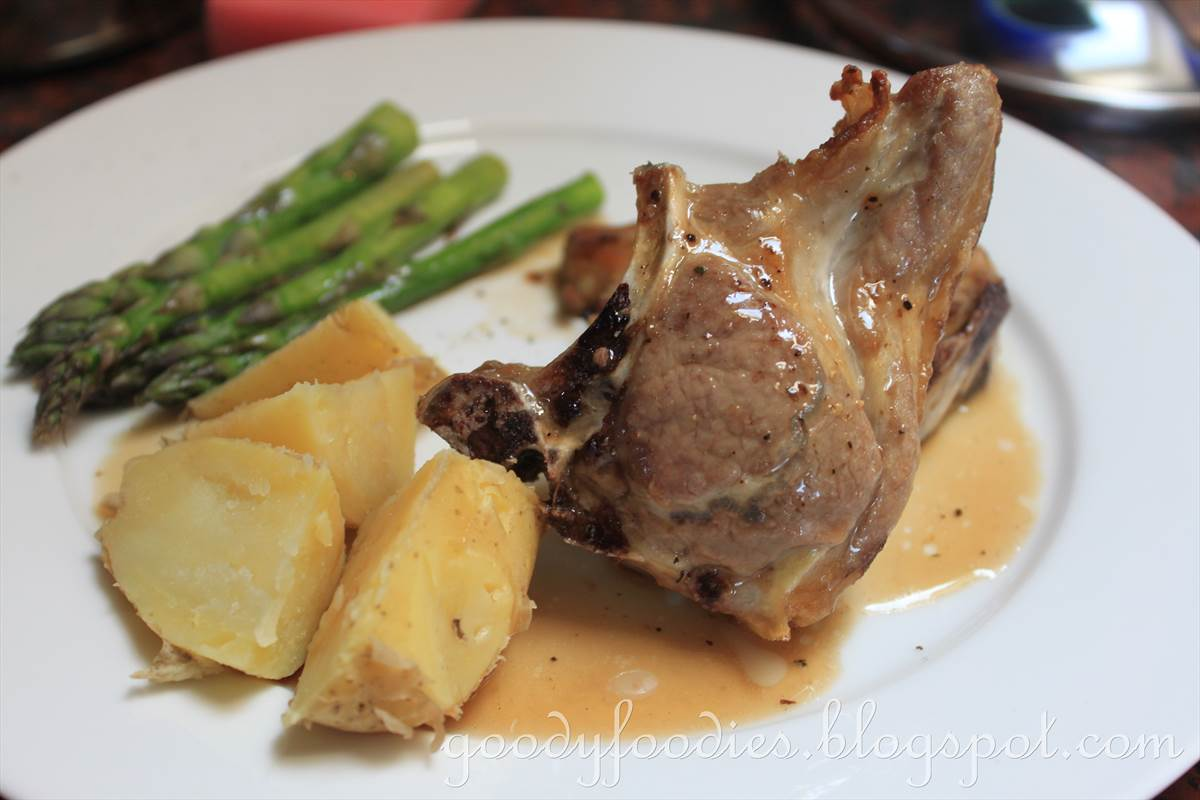boiled potatoes: (138, 409, 526, 721)
